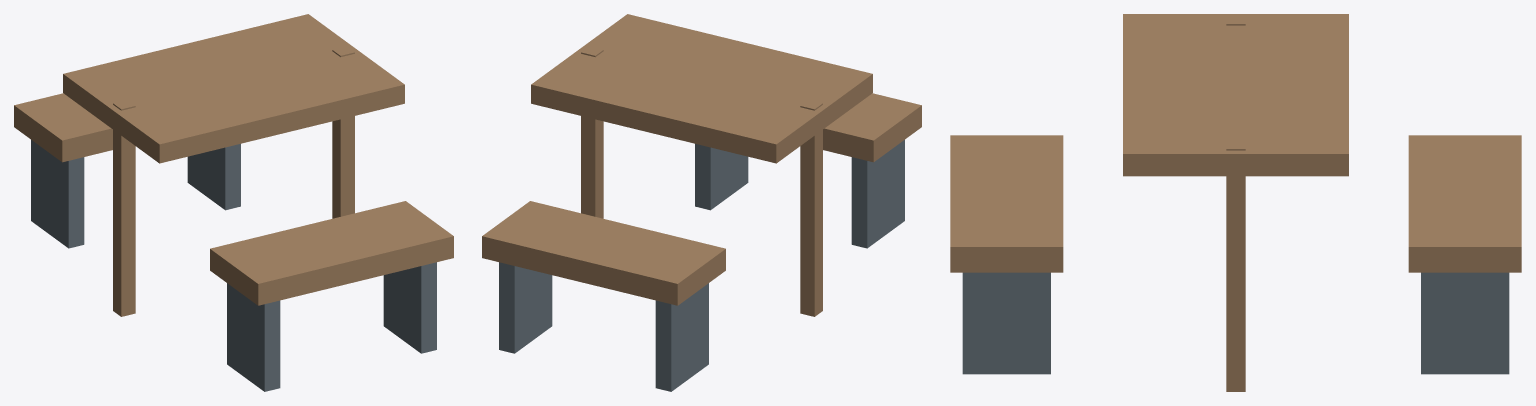
File: q01-cafe-table.glb
3 renders of one model, left to right at view 1: azimuth 30°, elevation 25°; view 2: azimuth 150°, elevation 25°; view 3: azimuth 270°, elevation 25°, orthographic. The views are drawn at different scales.
Bounding box in the file's own units: 0.94 × 0.76 × 1.62.
